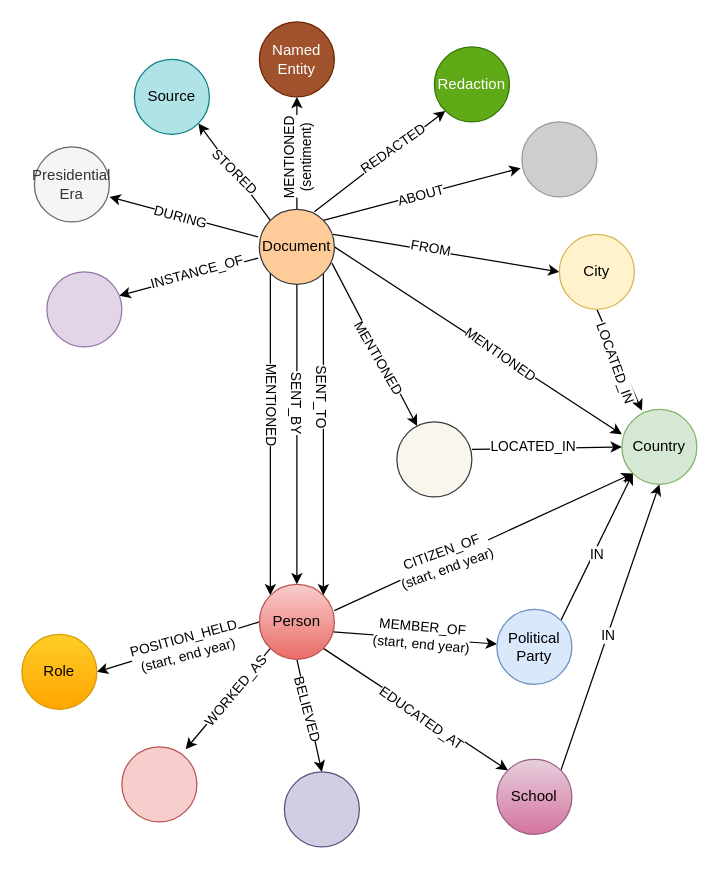
This 719x869 diagram has some shape labels left out. The shapes that lost their labels are listed below. From the top down, each one's centre as x and y in pixels, then its label:
At point 559,159: "Topic".
At point 84,309: "Volume".
At point 434,459: "Institution".
At point 159,784: "Occupation".
At point 321,809: "Religion".
